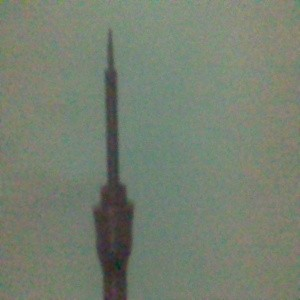solder: (92, 25, 134, 300)
